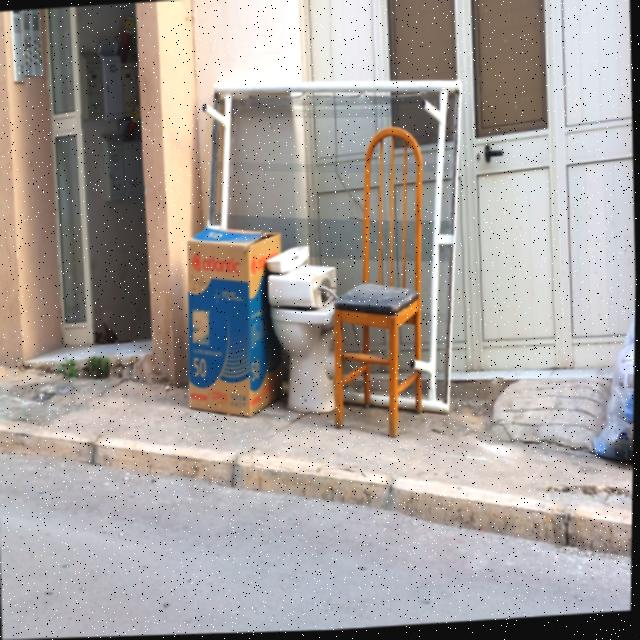Other: (207, 62, 473, 434), (182, 207, 347, 438), (336, 123, 434, 436)
